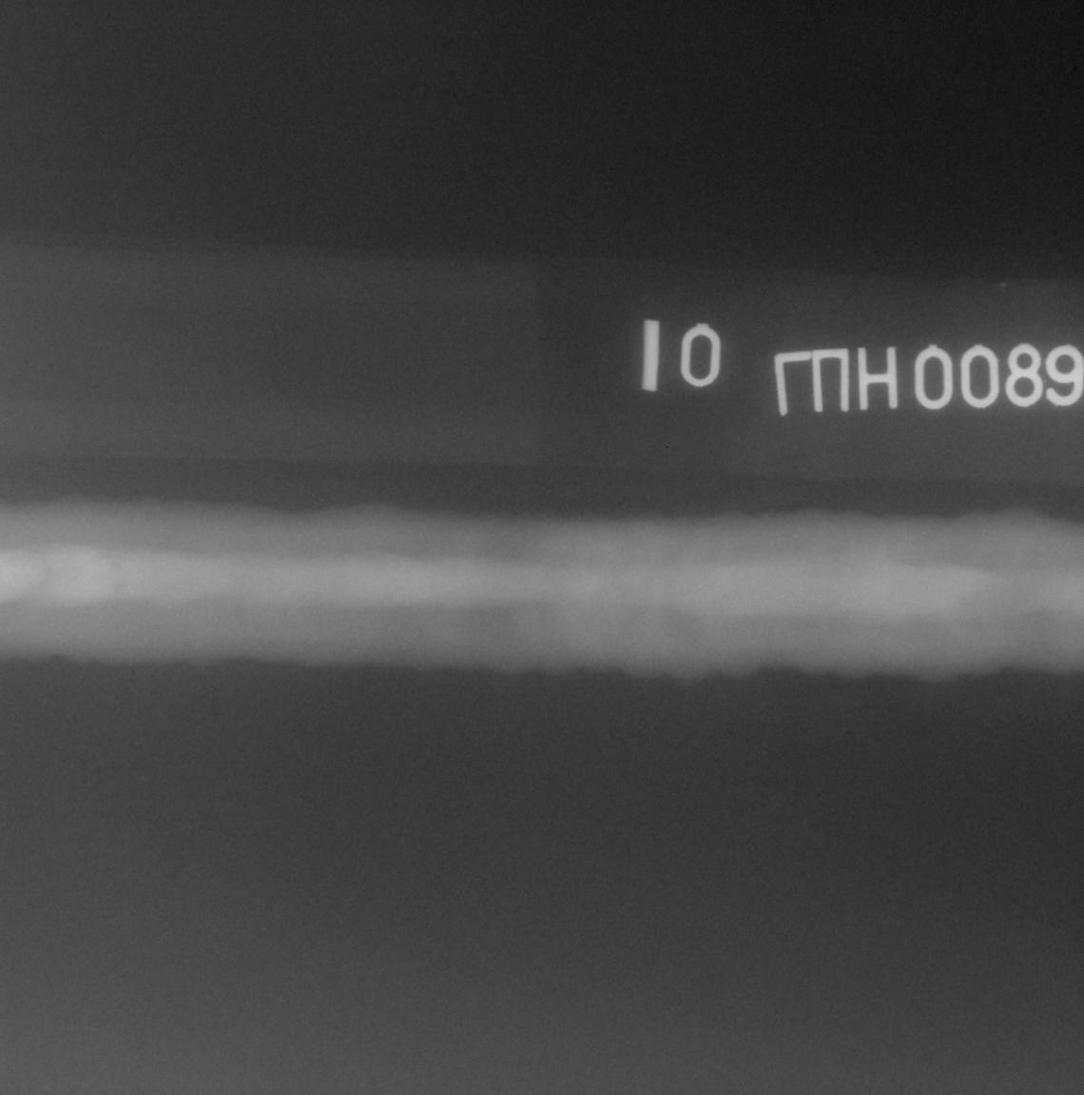Pore/Porosity: (115, 585, 124, 590)
